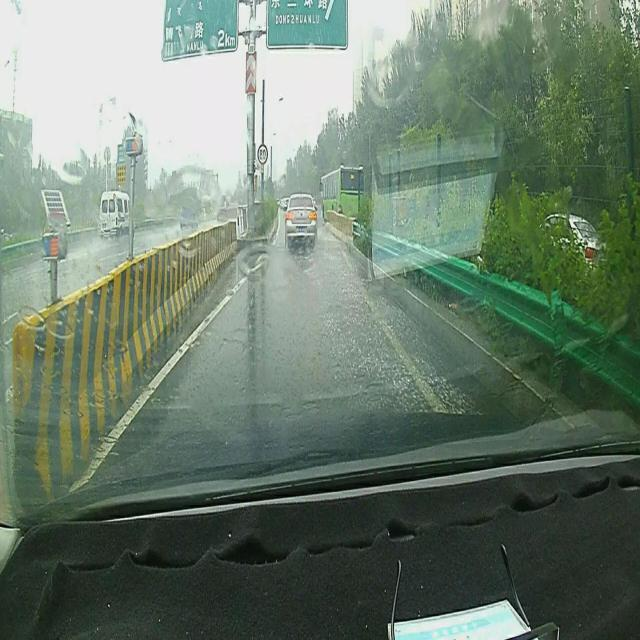car: (284, 192, 320, 252), (101, 191, 136, 239)
